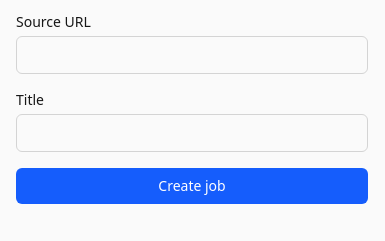
Scenario: CreateJobForm › shows a validation error for an invalid source URL
Type "not a URL" into the field labelled "Source URL" at (192, 55), box x1=16 y1=36 x2=368 y2=74
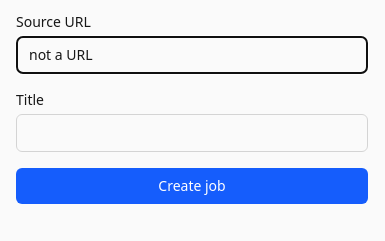
Click the button "Create job" at (192, 186), box x1=16 y1=168 x2=368 y2=204
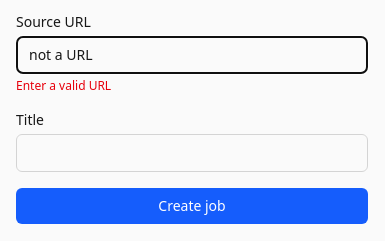
Check: the text "Enter a valid URL" is shown, box x1=16 y1=77 x2=111 y2=94
